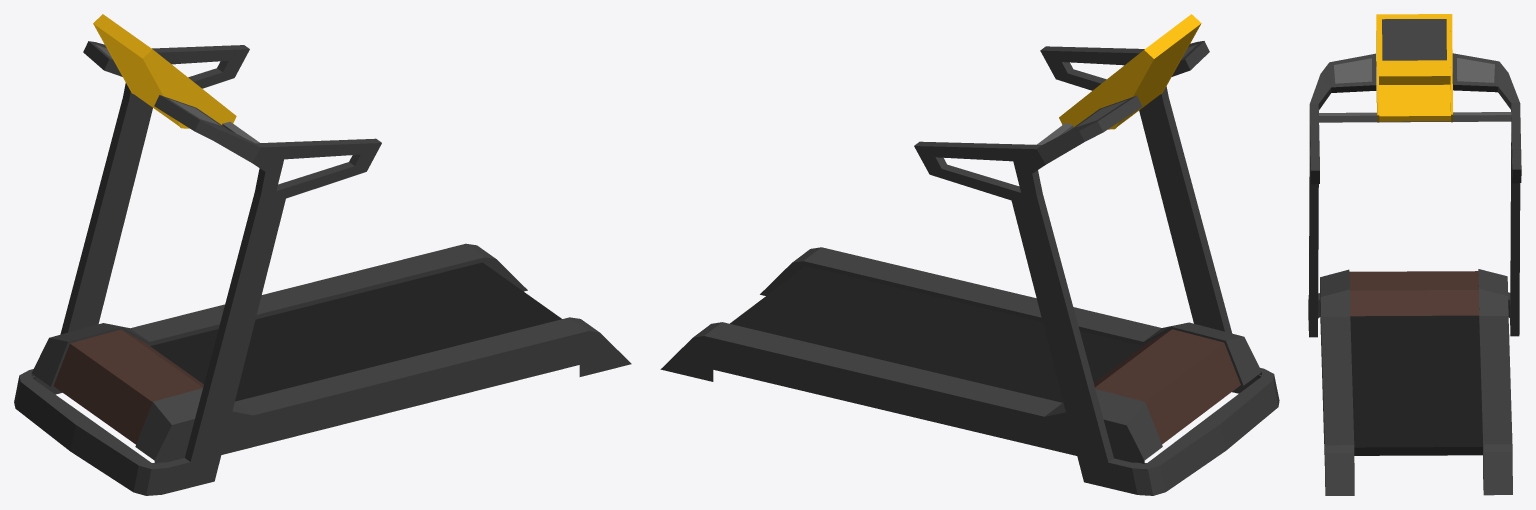
File: FitnessMachine.fbx
3 views of the same model, side by side, from view 1: azimuth 30°, elevation 25°; view 2: azimuth 150°, elevation 25°; view 3: azimuth 270°, elevation 25° (orthographic). The views are drawn at different scales.
Visible parts, largest first — view 1: FitnessMachine; view 2: FitnessMachine; view 3: FitnessMachine.
Part boxes in pixels (x1=…): FitnessMachine: x1=14, y1=14, x2=631, y2=495; FitnessMachine: x1=660, y1=14, x2=1279, y2=495; FitnessMachine: x1=1308, y1=14, x2=1521, y2=495.
Size of the model in its own units: 67.53 by 51.79 by 31.66.
